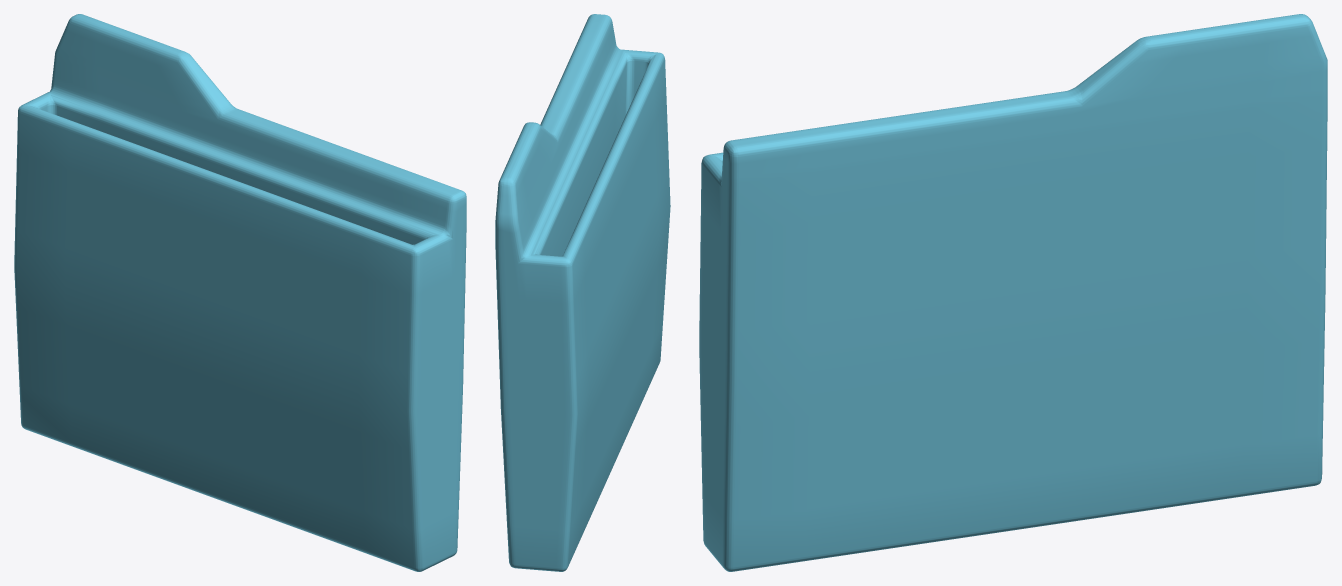
Rendered from folder2.glb.
3 views of the same model, side by side, from view 1: azimuth 30°, elevation 25°; view 2: azimuth 150°, elevation 25°; view 3: azimuth 270°, elevation 25° (orthographic). The views are drawn at different scales.
Visible parts, largest first — view 1: Cube; view 2: Cube; view 3: Cube.
Part boxes in pixels (left/top/right/bottom): Cube: left=14, top=14, right=466, bottom=571; Cube: left=495, top=14, right=670, bottom=571; Cube: left=699, top=14, right=1327, bottom=571.
Bounding box in the file's own units: 1.85 × 3.22 × 3.83.
